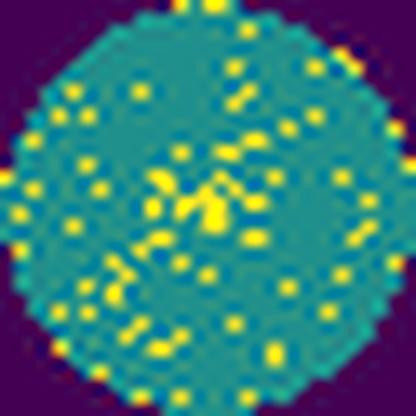Center: (143, 167, 267, 235)
